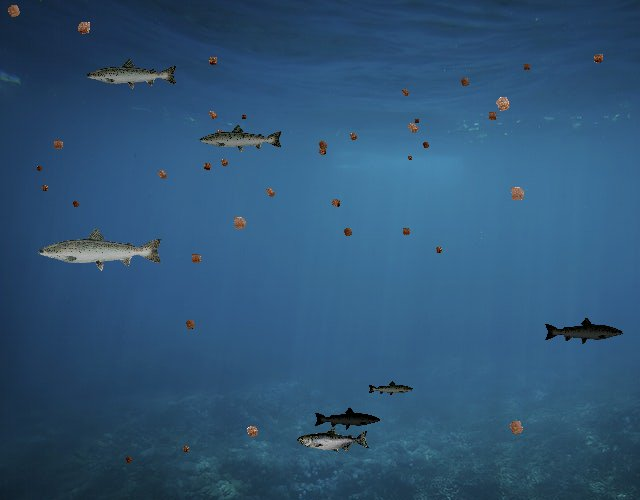Fish: (36, 226, 165, 272), (86, 58, 180, 91), (198, 123, 284, 154), (543, 316, 624, 346), (297, 428, 370, 454), (314, 407, 382, 431), (367, 381, 414, 398)
Pellet: (240, 419, 265, 444), (455, 73, 474, 92), (345, 128, 362, 145), (178, 442, 193, 457), (122, 453, 136, 467), (432, 243, 446, 257), (38, 181, 52, 195)
